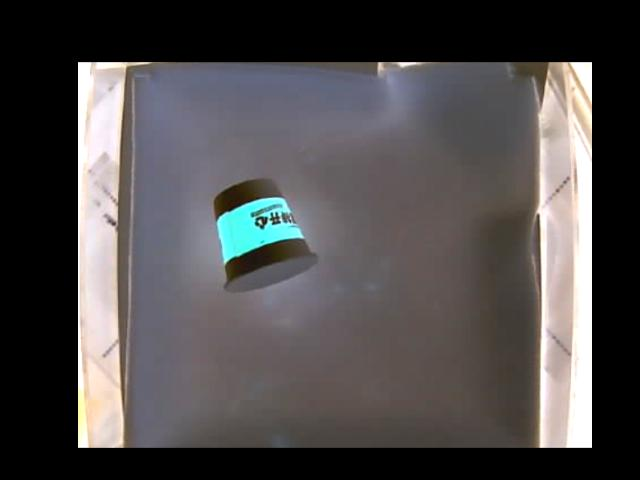Cup: (215, 176, 318, 295)
